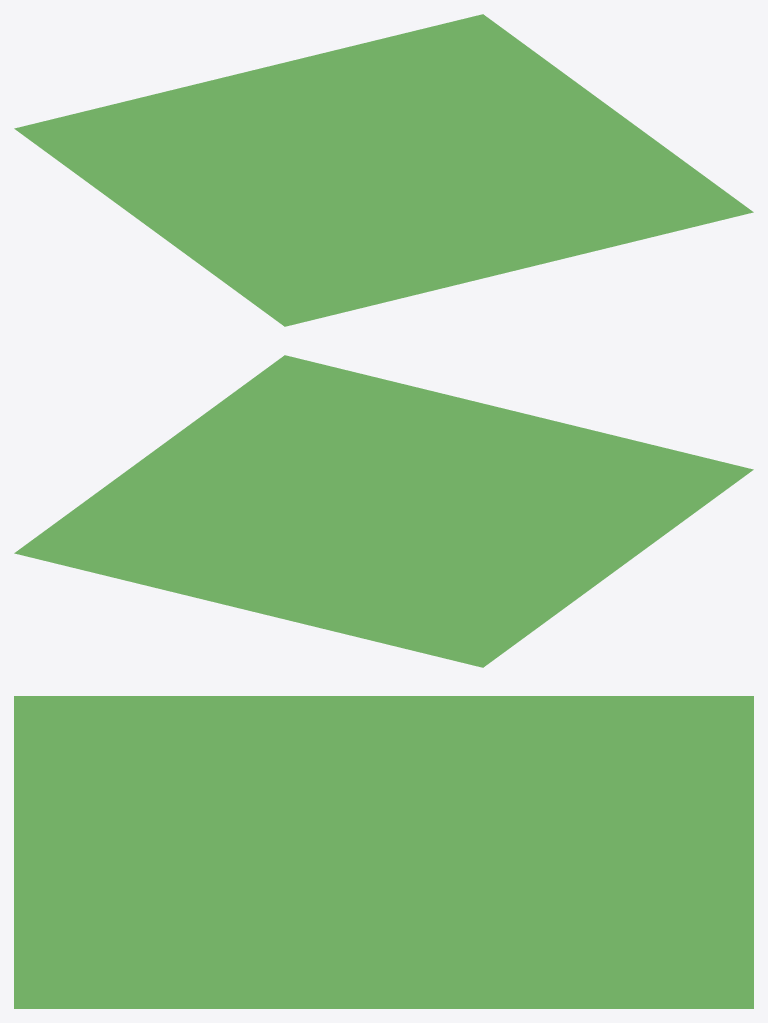
The model's file is leaf_morphs.glb.
3 views of the same model, one above another, from view 1: azimuth 30°, elevation 25°; view 2: azimuth 150°, elevation 25°; view 3: azimuth 270°, elevation 25° (orthographic). The views are drawn at different scales.
Visible parts, largest first — view 1: AnimatedLeaf; view 2: AnimatedLeaf; view 3: AnimatedLeaf.
Part boxes in pixels (left/top/right/bottom): AnimatedLeaf: left=14, top=14, right=753, bottom=326; AnimatedLeaf: left=14, top=355, right=753, bottom=667; AnimatedLeaf: left=14, top=696, right=753, bottom=1008.
Size of the model in its own units: 0.1 by 0 by 0.1.
